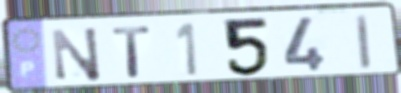1: (173, 21, 200, 78)
4: (281, 15, 332, 74)
5: (219, 15, 274, 78)
I: (354, 12, 374, 71)
N: (49, 24, 104, 83)
T: (110, 24, 155, 80)
